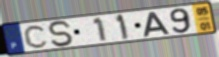1: (113, 13, 131, 42), (92, 16, 111, 43)
9: (169, 7, 193, 35)
A: (142, 11, 171, 38)
C: (23, 24, 50, 49)
S: (46, 20, 76, 48)
